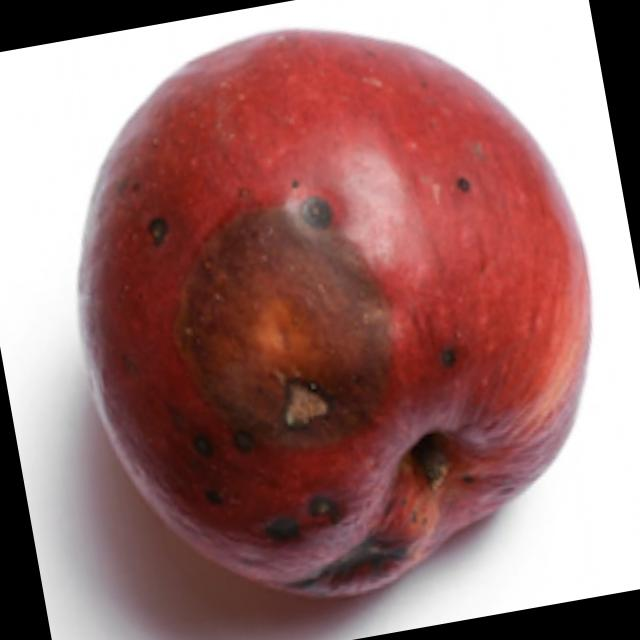rotten_apple: (28, 0, 639, 635)
